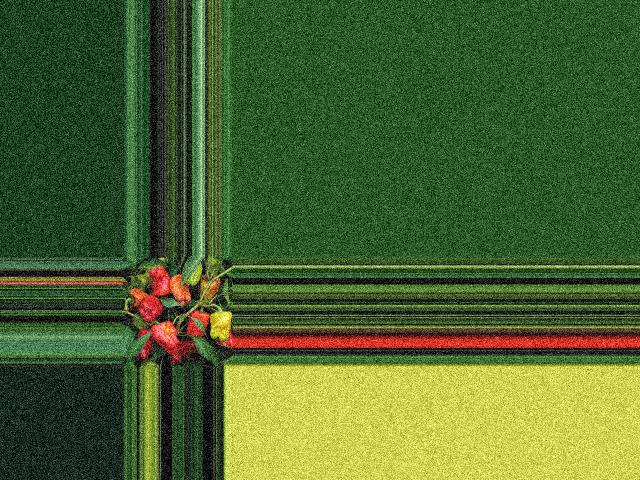bell_pepper: (127, 288, 146, 302)
